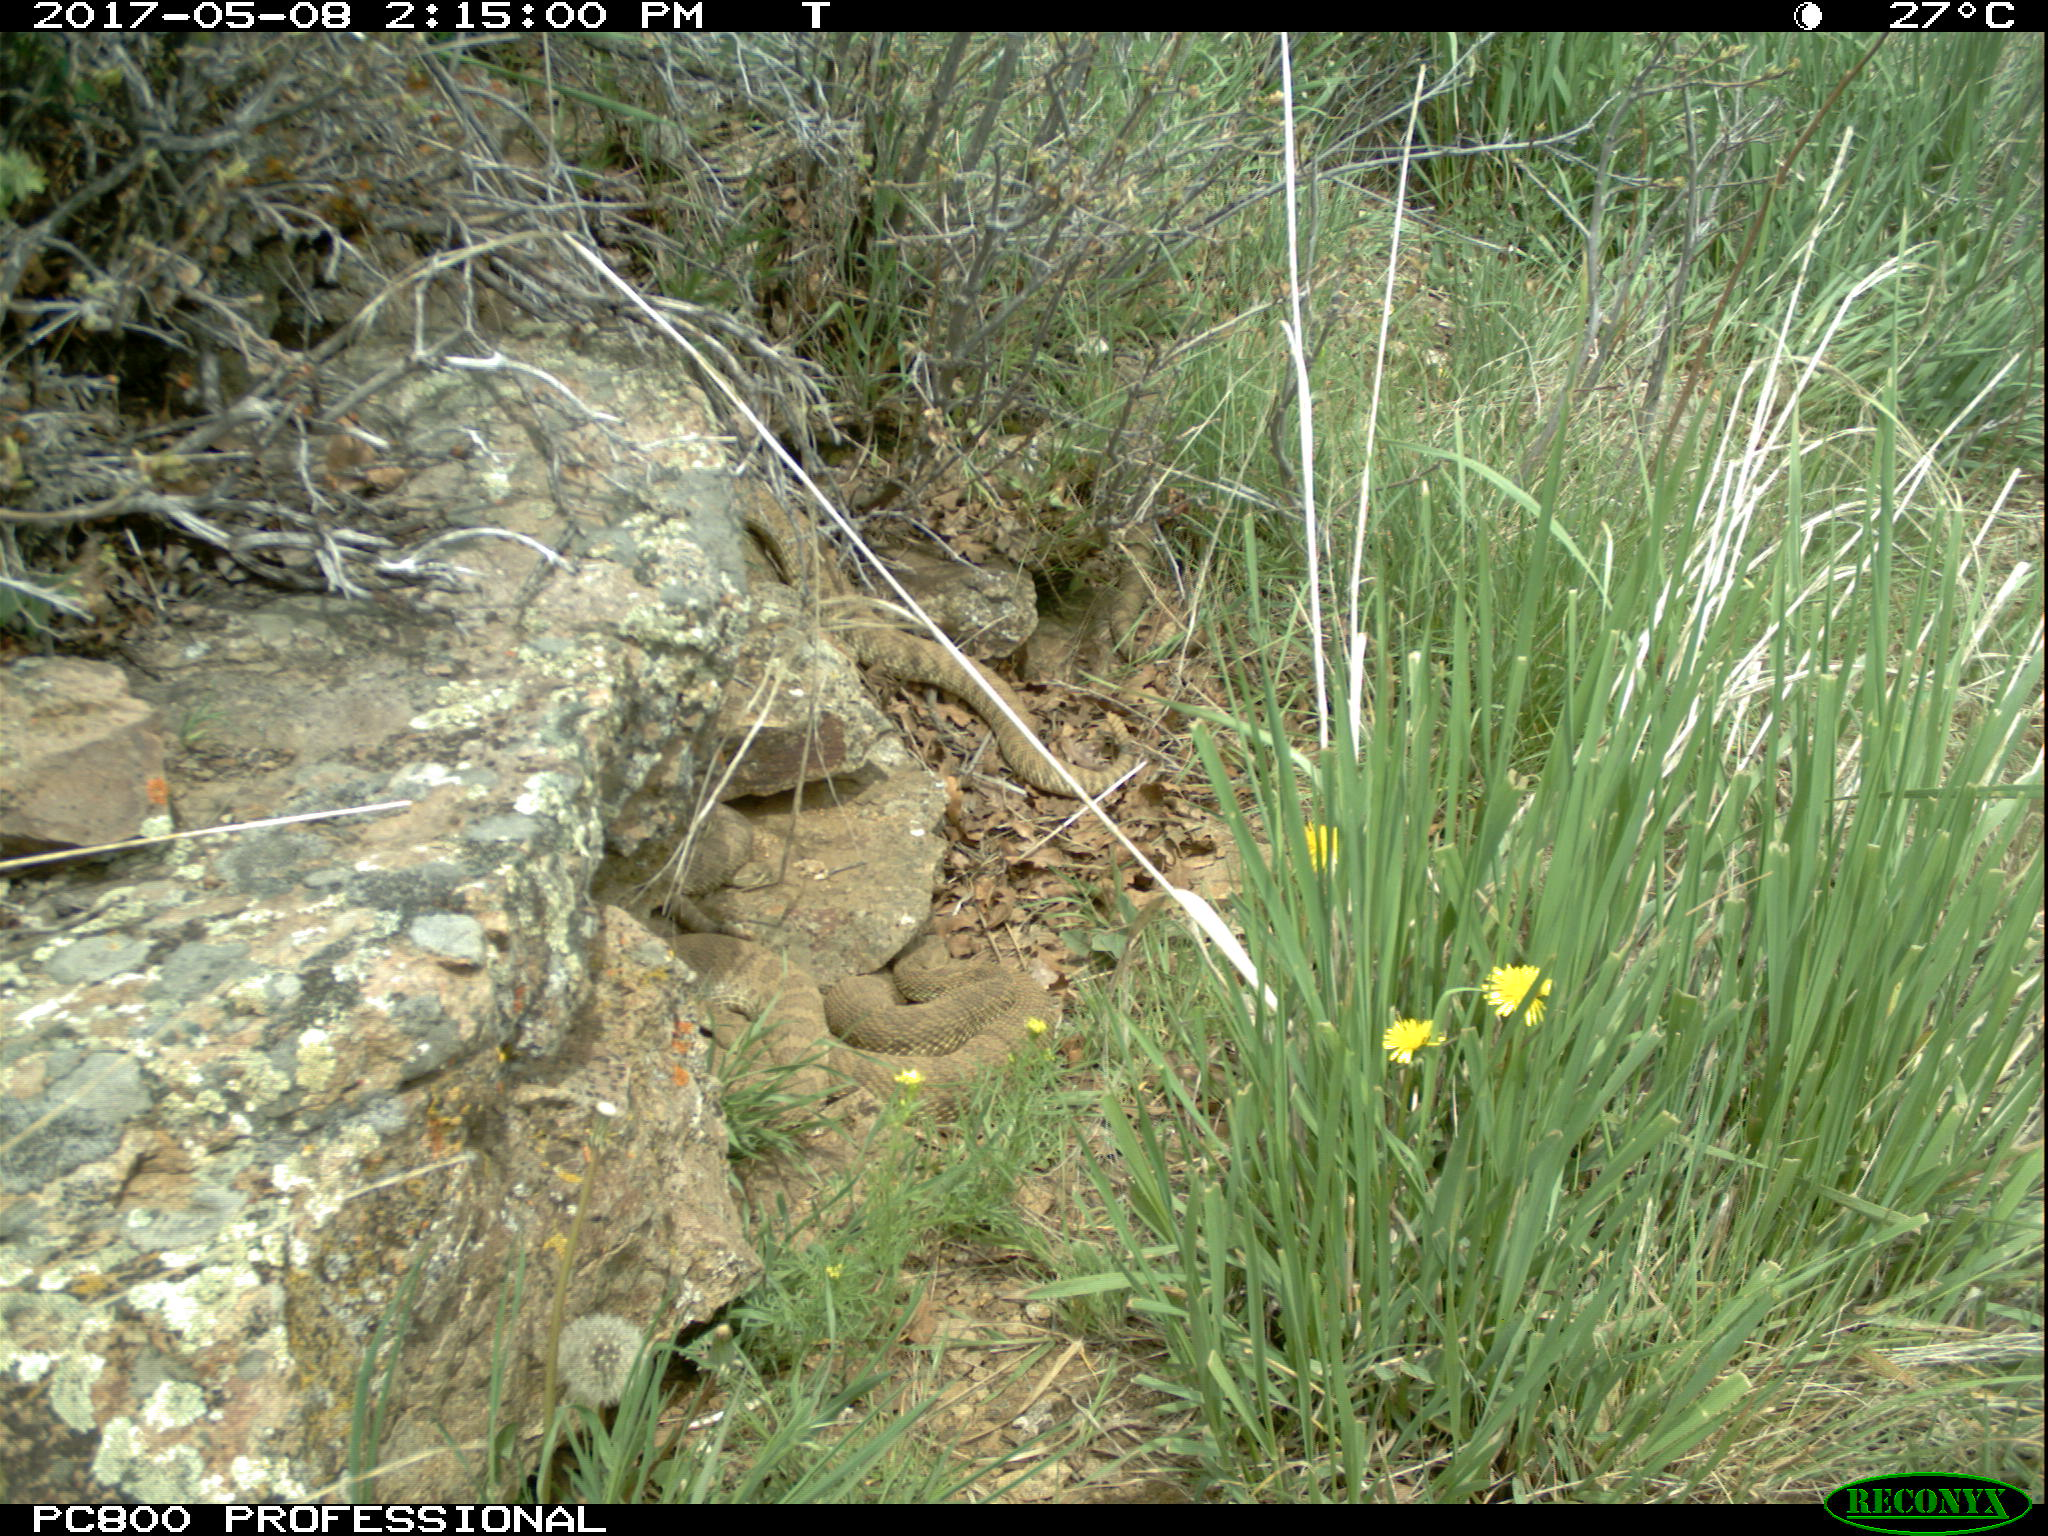snake: (839, 928, 1055, 1091), (668, 937, 834, 1110), (963, 666, 1134, 799), (822, 600, 956, 694), (743, 495, 843, 591)
